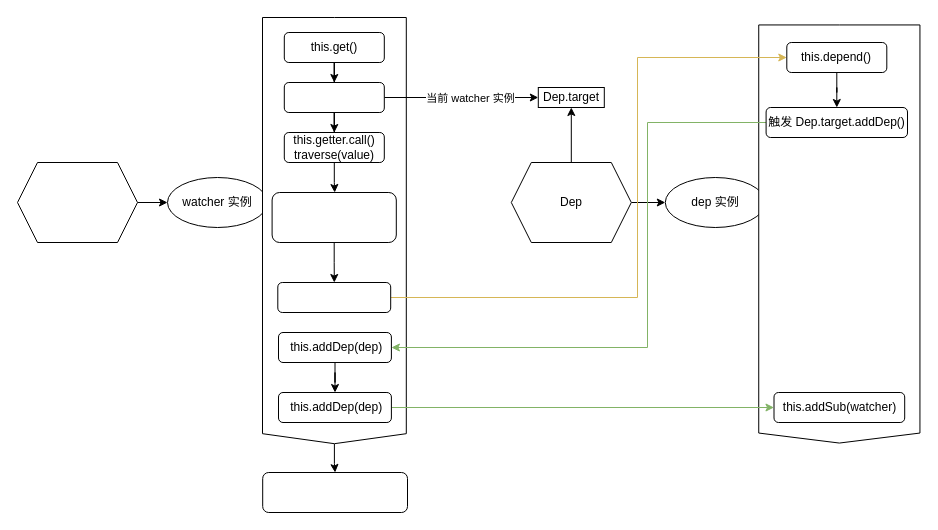
Image size: 938x530. Some labels were removed from this diagram. The shapes that lost their labels are listed below. From the top down, each one's centre as x and y in pixels, then its label:
At (333,97): "pushTarget(this)".
At (77,202): "Watcher".
At (333,217): "获取值的过程触发 Object.defineProperty 指定的 getter".
At (334,297): "触发 dep.depend()".
At (335,492): "popTarget() 清除 Dep.target".
